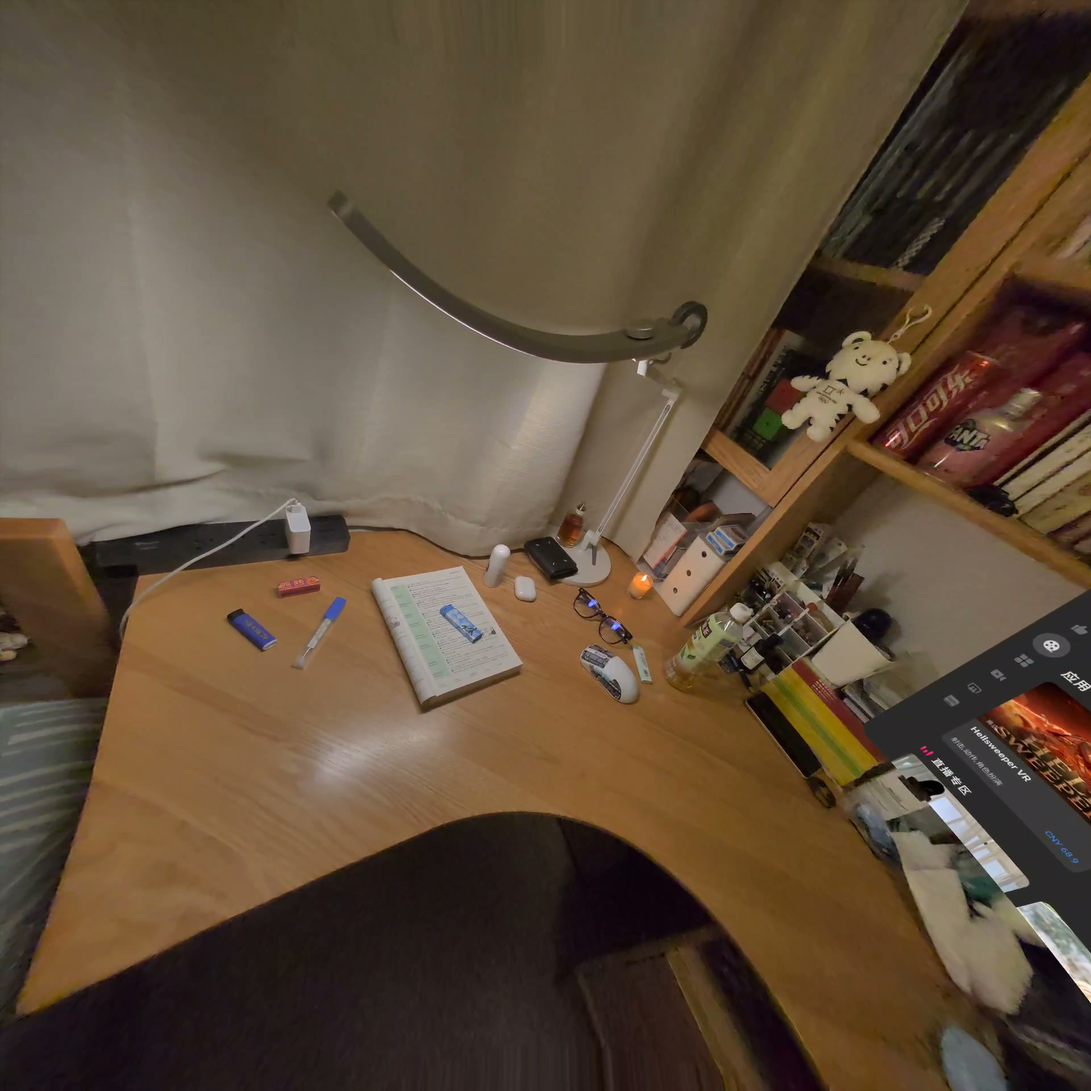lighter: (440, 604, 482, 643)
